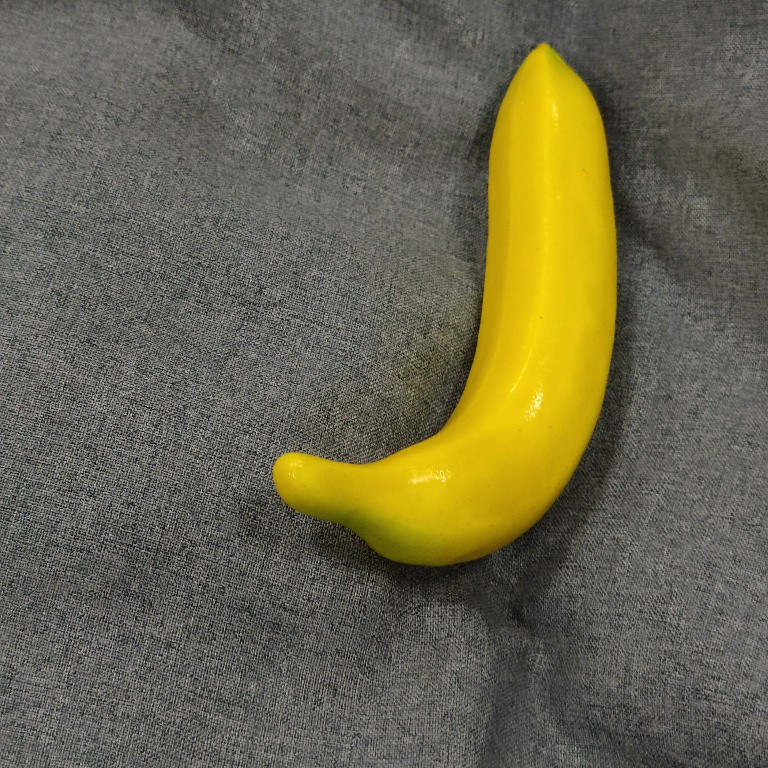fruit_banana: (267, 37, 621, 572)
